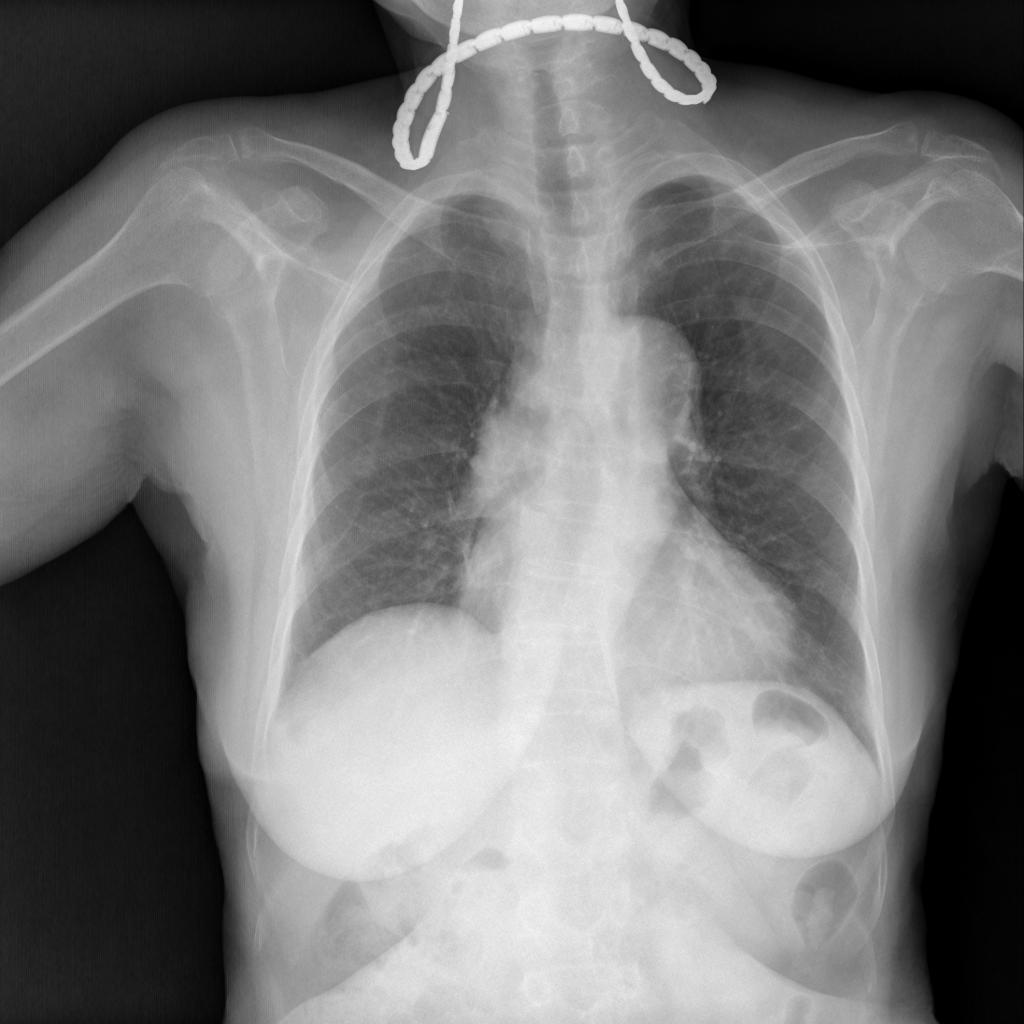Nodule: (348, 443, 380, 479)
